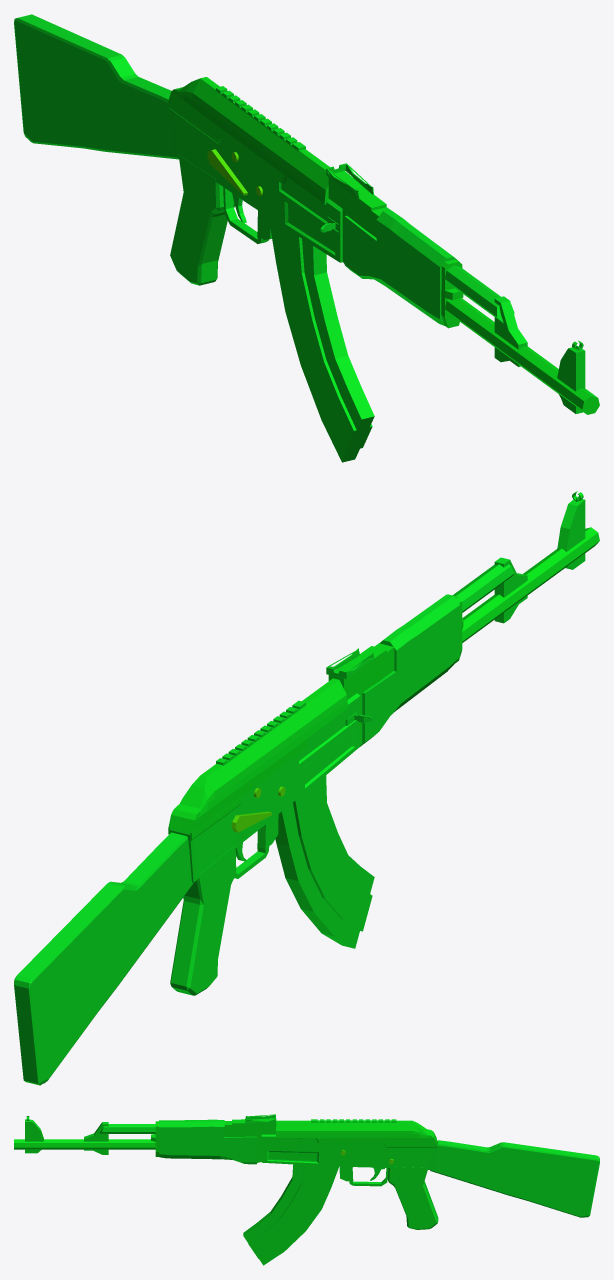
The model's file is ak-47 toy gun.fbx.
The picture shows the model from 3 angles, top to bottom: view 1: azimuth 30°, elevation 25°; view 2: azimuth 150°, elevation 25°; view 3: azimuth 270°, elevation 25°; orthographic projection. The views are drawn at different scales.
Parts seen in each view (by area): view 1: Cube.012, Cube.014, Cube.002, Cube.007, Cube, Cube.013, Cylinder.005, Cube.005, Cylinder.004, Cube.010, Cube.009, Cube.015 (+4 smaller); view 2: Cube.012, Cube.014, Cube, Cube.002, Cube.007, Cube.013, Cylinder.005, Cube.005, Cube.010, Cylinder.004, Cube.015, Cube.001 (+1 smaller); view 3: Cube.012, Cube.014, Cube.002, Cube, Cube.007, Cube.013, Cylinder.005, Cube.005, Cylinder.004, Cube.010, Cube.015, Cube.009 (+2 smaller).
Boxes of the visible parts, x1,y1,x2,y2 form: Cube.012: (14, 14, 178, 159); Cube.014: (268, 217, 374, 462); Cube.002: (170, 109, 342, 262); Cube.007: (344, 209, 459, 325); Cube: (168, 77, 329, 204); Cube.013: (170, 155, 234, 285); Cylinder.005: (442, 298, 599, 414); Cube.005: (328, 171, 389, 263); Cylinder.004: (442, 265, 514, 322); Cube.010: (557, 347, 585, 413); Cube.009: (494, 296, 527, 366); Cube.015: (223, 187, 271, 243); Cube.012: (14, 832, 193, 1085); Cube.014: (275, 775, 374, 948); Cube: (168, 678, 347, 841); Cube.002: (169, 693, 360, 882); Cube.007: (360, 594, 460, 746); Cube.013: (170, 845, 236, 995); Cylinder.005: (460, 527, 599, 642); Cube.005: (328, 643, 394, 744); Cube.010: (557, 499, 585, 569); Cylinder.004: (453, 564, 514, 612); Cube.015: (234, 814, 278, 878); Cube.001: (216, 700, 305, 765); Cube.012: (430, 1140, 599, 1217); Cube.014: (243, 1164, 339, 1265); Cube.002: (261, 1134, 436, 1169); Cube: (276, 1120, 436, 1147); Cube.007: (159, 1119, 256, 1164); Cube.013: (387, 1166, 438, 1229); Cylinder.005: (14, 1139, 157, 1149); Cube.005: (224, 1118, 276, 1162); Cylinder.004: (99, 1124, 157, 1133); Cube.010: (25, 1119, 43, 1153); Cube.015: (339, 1166, 388, 1186); Cube.009: (84, 1122, 108, 1154).
Size of the model in its own units: 5.07 by 35.58 by 128.
